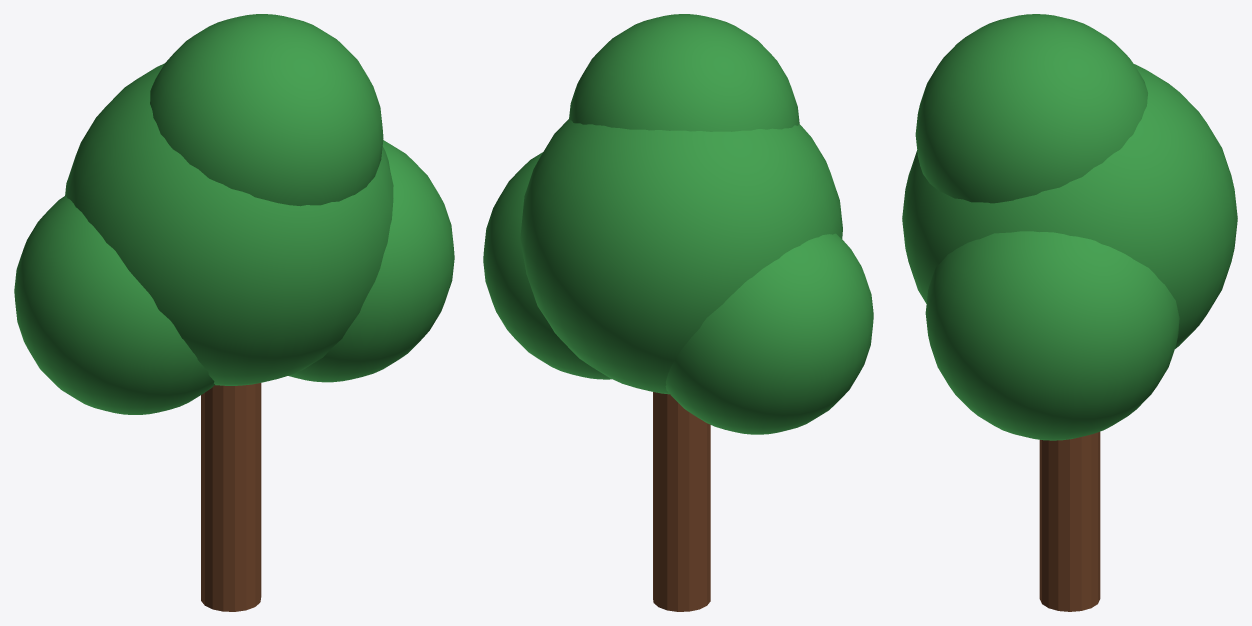
The model's file is arbol.glb.
The picture shows the model from 3 angles, left to right: view 1: azimuth 30°, elevation 25°; view 2: azimuth 150°, elevation 25°; view 3: azimuth 270°, elevation 25°; orthographic projection. The views are drawn at different scales.
Parts seen in each view (by area): view 1: Sphere, Sphere.003, Sphere.001, Sphere.002, Cylinder; view 2: Sphere, Sphere.001, Sphere.003, Cylinder, Sphere.002; view 3: Sphere.002, Sphere, Sphere.003, Cylinder.
Part boxes in pixels (box(x1,y1,x2,y2)): Sphere: box(65, 63, 393, 385); Sphere.003: box(150, 14, 383, 206); Sphere.001: box(14, 195, 214, 414); Sphere.002: box(288, 140, 454, 382); Cylinder: box(201, 383, 261, 611); Sphere: box(520, 119, 842, 394); Sphere.001: box(665, 233, 873, 434); Sphere.003: box(569, 14, 799, 131); Cylinder: box(653, 392, 710, 611); Sphere.002: box(483, 152, 611, 379); Sphere.002: box(925, 231, 1179, 440); Sphere: box(902, 64, 1237, 348); Sphere.003: box(915, 14, 1147, 203); Cylinder: box(1039, 432, 1100, 611).
Size of the model in its own units: 1.34 by 1.91 by 1.
